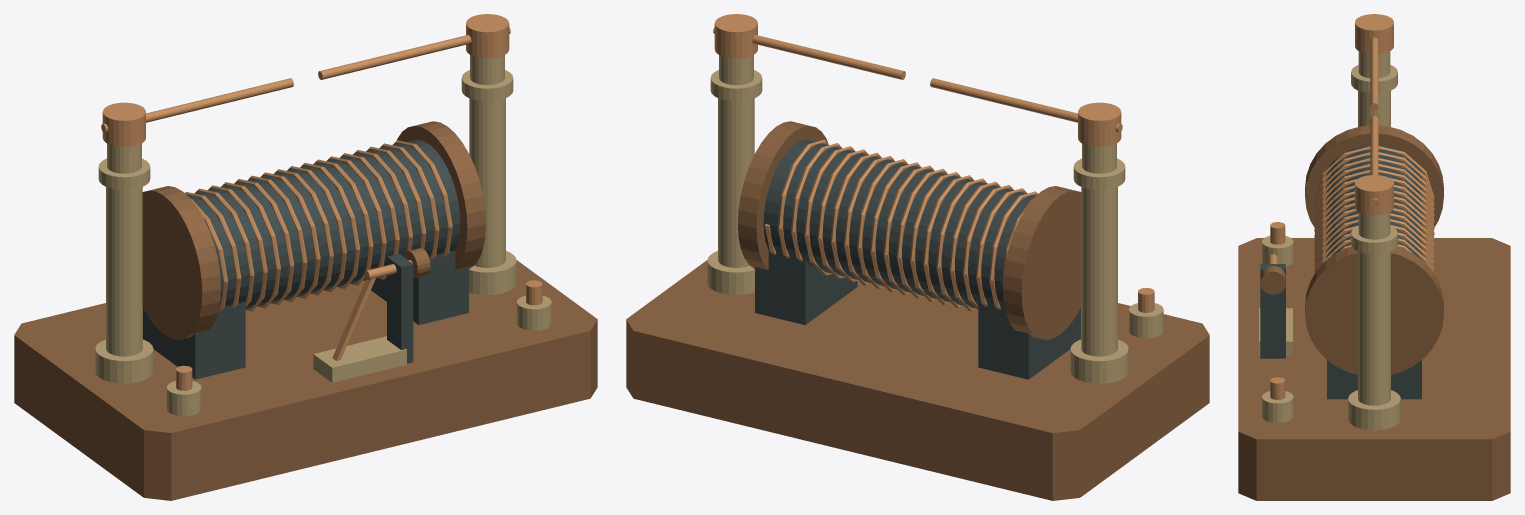
The picture shows the model from 3 angles, left to right: view 1: azimuth 30°, elevation 25°; view 2: azimuth 150°, elevation 25°; view 3: azimuth 270°, elevation 25°; orthographic projection. The views are drawn at different scales.
Parts seen in each view (by area): view 1: WholeChamferedBoxBase, WholeClosedHorizontalBarrel, WholeContinuousExteriorWinding, WholeBroadEndCheek0, WholeTallSteppedInsulator0, WholeTallSteppedInsulator1, WholeBroadEndCheek1, WholeBarrelSaddle0, WholeBarrelSaddle1, WholeFrontLeafFoot, WholeFrontContactUpright, WholeTerminalTopSocket1 (+6 smaller); view 2: WholeChamferedBoxBase, WholeClosedHorizontalBarrel, WholeContinuousExteriorWinding, WholeBroadEndCheek0, WholeTallSteppedInsulator0, WholeTallSteppedInsulator1, WholeBarrelSaddle1, WholeBarrelSaddle0, WholeBroadEndCheek1, WholeTerminalTopSocket1, WholeTerminalTopSocket0, WholeOpposedTerminalRod1 (+2 smaller); view 3: WholeChamferedBoxBase, WholeBroadEndCheek1, WholeTallSteppedInsulator1, WholeContinuousExteriorWinding, WholeBroadEndCheek0, WholeClosedHorizontalBarrel, WholeTallSteppedInsulator0, WholeFrontContactUpright, WholeBarrelSaddle1, WholeTerminalTopSocket1, WholeTerminalTopSocket0, WholeLowTerminalFoot1 (+7 smaller).
Part boxes in pixels (x1,y1,x2,y2): WholeChamferedBoxBase: (14, 260, 597, 500); WholeClosedHorizontalBarrel: (188, 139, 460, 308); WholeContinuousExteriorWinding: (185, 140, 452, 311); WholeBroadEndCheek0: (142, 186, 220, 339); WholeTallSteppedInsulator0: (95, 143, 153, 383); WholeTallSteppedInsulator1: (461, 55, 516, 295); WholeBroadEndCheek1: (397, 121, 486, 269); WholeBarrelSaddle0: (143, 301, 245, 379); WholeBarrelSaddle1: (371, 250, 468, 324); WholeFrontLeafFoot: (313, 336, 406, 382); WholeFrontContactUpright: (387, 254, 413, 363); WholeTerminalTopSocket1: (466, 14, 509, 58); WholeChamferedBoxBase: (626, 260, 1209, 500); WholeClosedHorizontalBarrel: (763, 139, 1035, 308); WholeContinuousExteriorWinding: (764, 139, 1037, 311); WholeBroadEndCheek0: (1003, 186, 1081, 339); WholeTallSteppedInsulator0: (1070, 143, 1128, 383); WholeTallSteppedInsulator1: (707, 55, 762, 295); WholeBarrelSaddle1: (755, 250, 857, 324); WholeBarrelSaddle0: (978, 301, 1080, 379); WholeBroadEndCheek1: (737, 121, 828, 269); WholeTerminalTopSocket1: (714, 14, 757, 58); WholeTerminalTopSocket0: (1078, 102, 1121, 147); WholeOpposedTerminalRod1: (713, 27, 905, 79); WholeChamferedBoxBase: (1238, 238, 1510, 500); WholeBroadEndCheek1: (1305, 246, 1443, 374); WholeTallSteppedInsulator1: (1348, 212, 1400, 430); WholeContinuousExteriorWinding: (1314, 146, 1434, 273); WholeBroadEndCheek0: (1305, 125, 1443, 227); WholeClosedHorizontalBarrel: (1325, 145, 1423, 259); WholeTallSteppedInsulator0: (1351, 51, 1397, 126); WholeFrontContactUpright: (1260, 264, 1285, 358); WholeBarrelSaddle1: (1327, 360, 1421, 399); WholeTerminalTopSocket1: (1355, 175, 1393, 215); WholeTerminalTopSocket0: (1355, 14, 1393, 54); WholeLowTerminalFoot1: (1262, 391, 1293, 422).
Size of the model in its own units: 0.63 by 0.4345 by 0.36.
